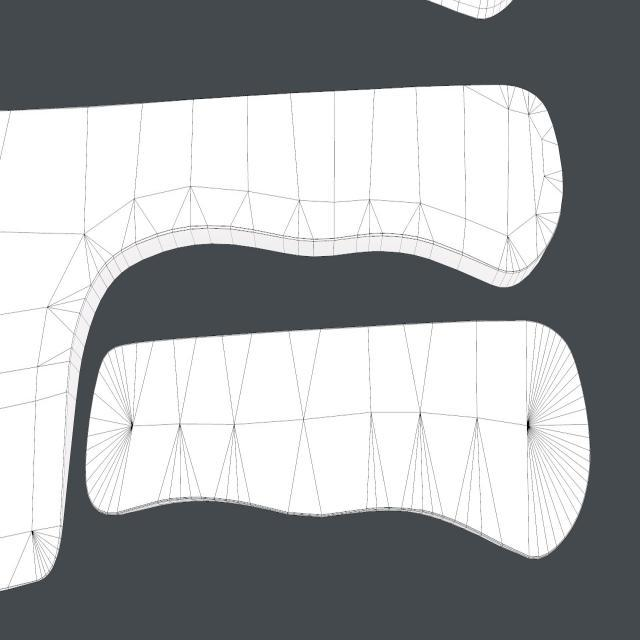cleaver: (0, 80, 552, 574)
